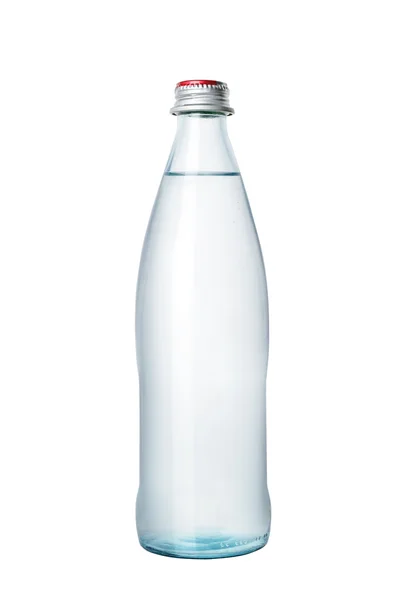glass_bottle: (106, 59, 302, 581)
